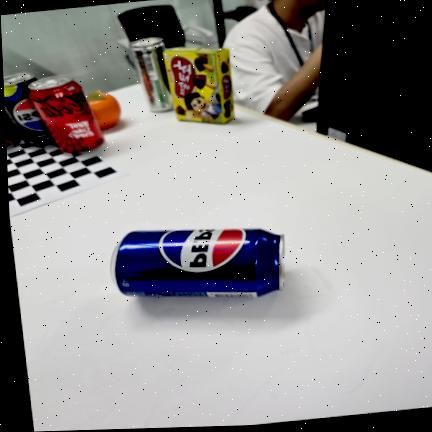can_coke_zero: (28, 75, 104, 154)
can_pepsi: (110, 228, 285, 298)
can_pepsi_zero: (3, 73, 54, 146)
